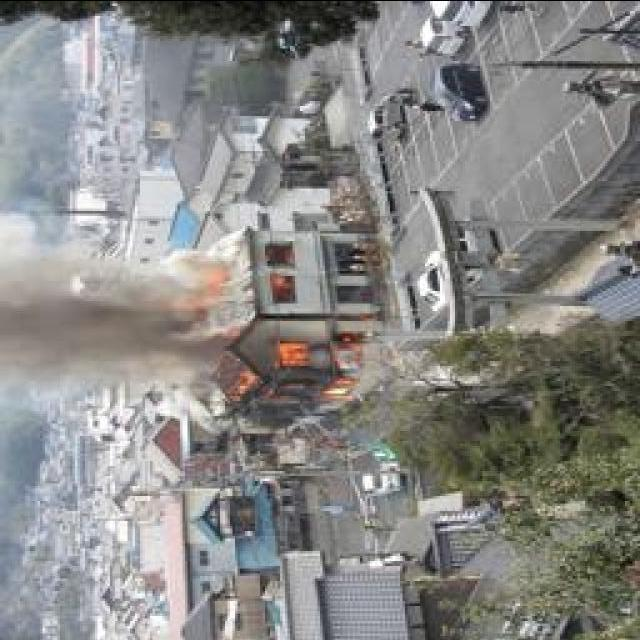Fire: (230, 338, 368, 410), (270, 272, 297, 306)
